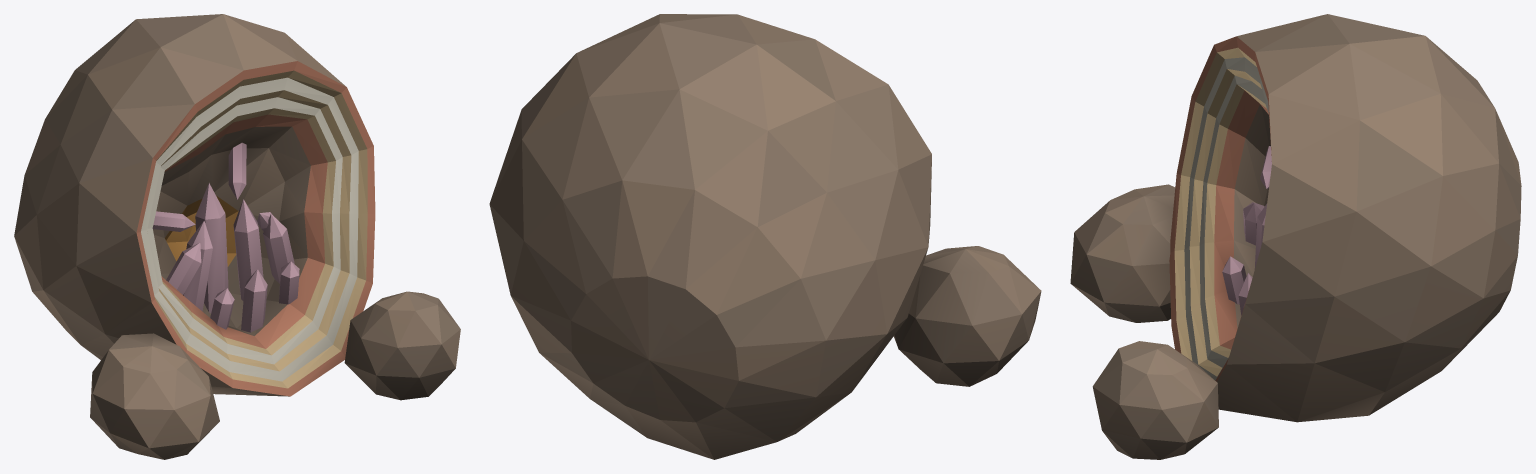
File: geode.glb
3 renders of one model, left to right at view 1: azimuth 30°, elevation 25°; view 2: azimuth 150°, elevation 25°; view 3: azimuth 270°, elevation 25°, orthographic. The views are drawn at different scales.
Visible parts, largest first — view 1: geode.001; view 2: geode.001; view 3: geode.001.
Part boxes in pixels (left/top/right/bottom): geode.001: left=14, top=14, right=460, bottom=459; geode.001: left=489, top=14, right=1041, bottom=459; geode.001: left=1070, top=14, right=1521, bottom=459.
Bounding box in the file's own units: 1.5 × 1.32 × 1.5.
